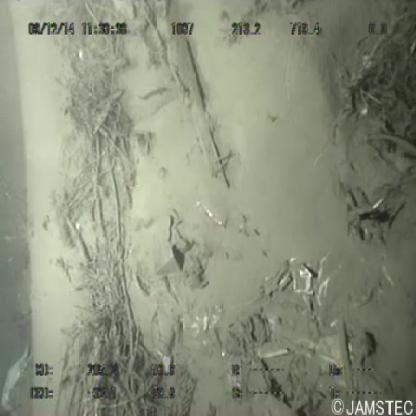Rác: (288, 259, 314, 296)
